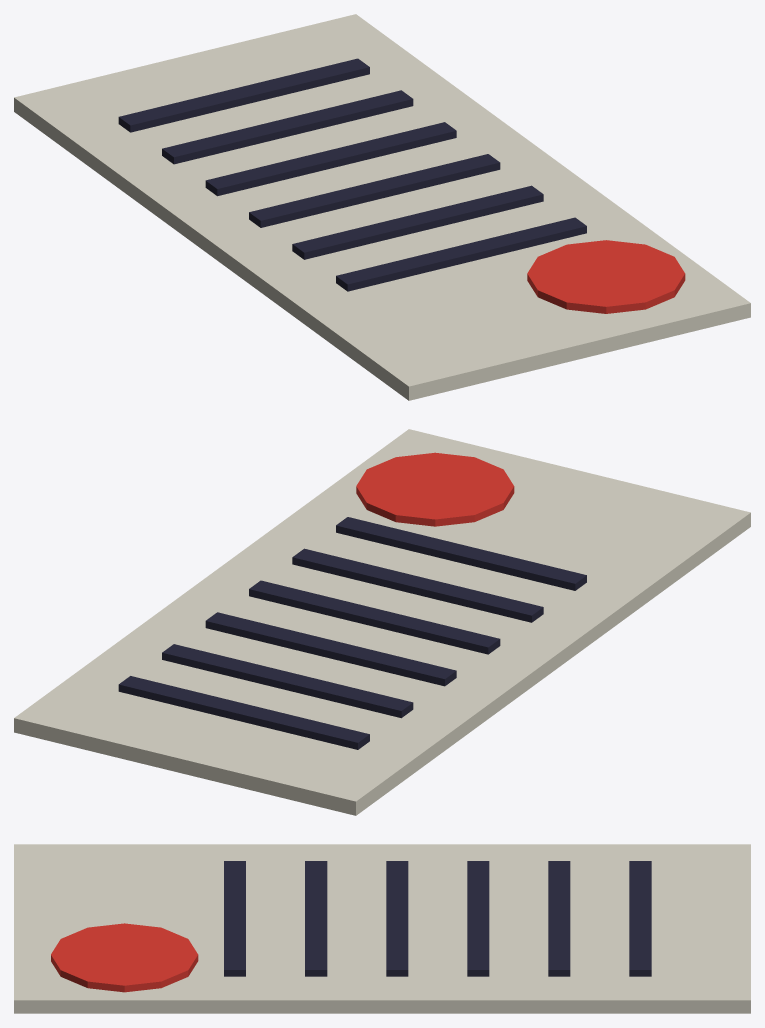
File: karaoke_goods_receipt.glb
The picture shows the model from 3 angles, top to bottom: view 1: azimuth 30°, elevation 25°; view 2: azimuth 150°, elevation 25°; view 3: azimuth 270°, elevation 25°; orthographic projection. The views are drawn at different scales.
Parts seen in each view (by area): view 1: slip_receipt_white, lines_receipt_ink (×6), stamp_receipt_stamp; view 2: slip_receipt_white, lines_receipt_ink (×6), stamp_receipt_stamp; view 3: slip_receipt_white, lines_receipt_ink (×6), stamp_receipt_stamp.
Part boxes in pixels (x1,y1,x2,y2): slip_receipt_white: (14, 14, 750, 400); lines_receipt_ink (×6): (118, 58, 586, 291); stamp_receipt_stamp: (527, 240, 685, 313); slip_receipt_white: (14, 429, 750, 815); lines_receipt_ink (×6): (118, 517, 586, 749); stamp_receipt_stamp: (356, 452, 514, 526); slip_receipt_white: (14, 844, 750, 1013); lines_receipt_ink (×6): (224, 861, 651, 976); stamp_receipt_stamp: (51, 923, 198, 992).
Bounding box in the file's own units: 0.1 × 0.006 × 0.2.
